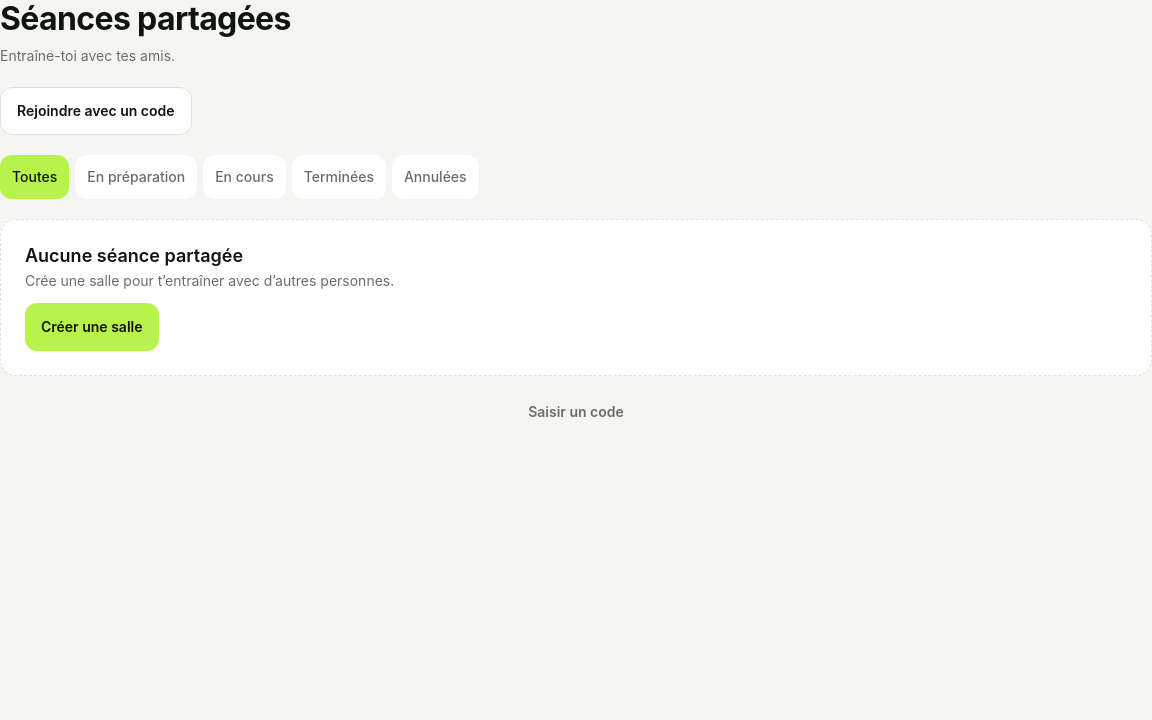
Test: SharedWorkoutsPage › affiche une erreur pour un code invalide
The image size is (1152, 720).
Click the button "Rejoindre avec un code" at (96, 111), box [0,87,192,135]
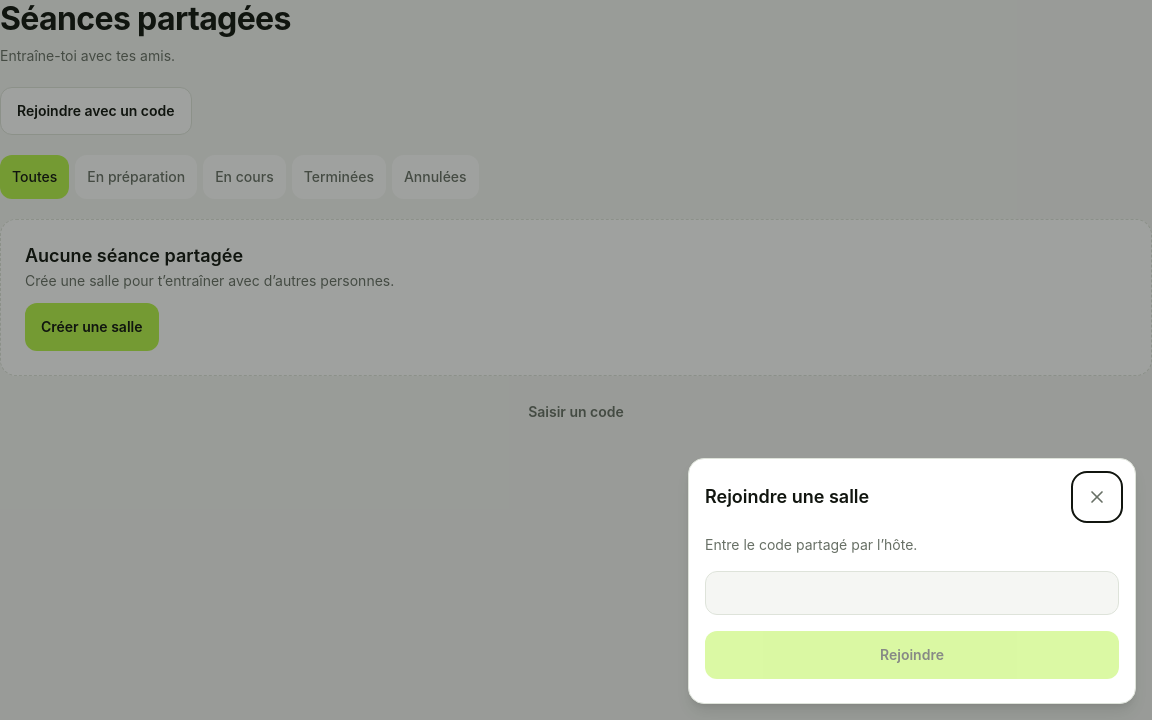
Type "AAAAAA" into the field named "code d’accès" at (912, 593), box [705,571,1119,615]
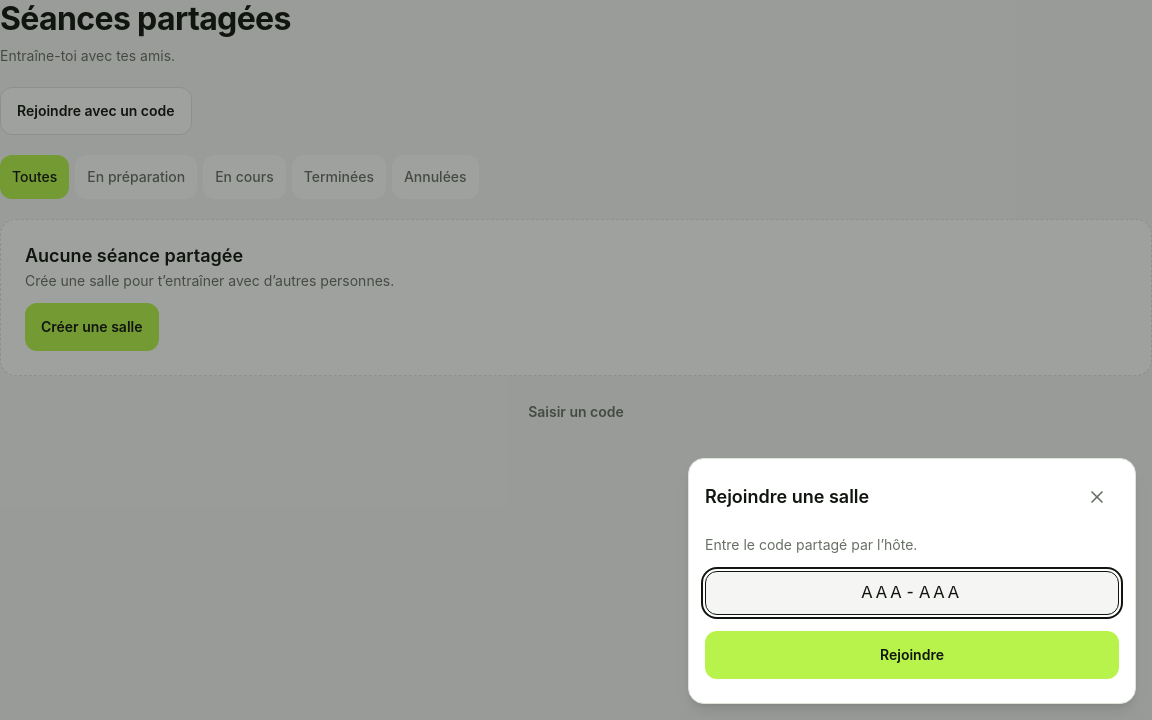
Click the button "Rejoindre" at (912, 655), box [705,631,1119,679]
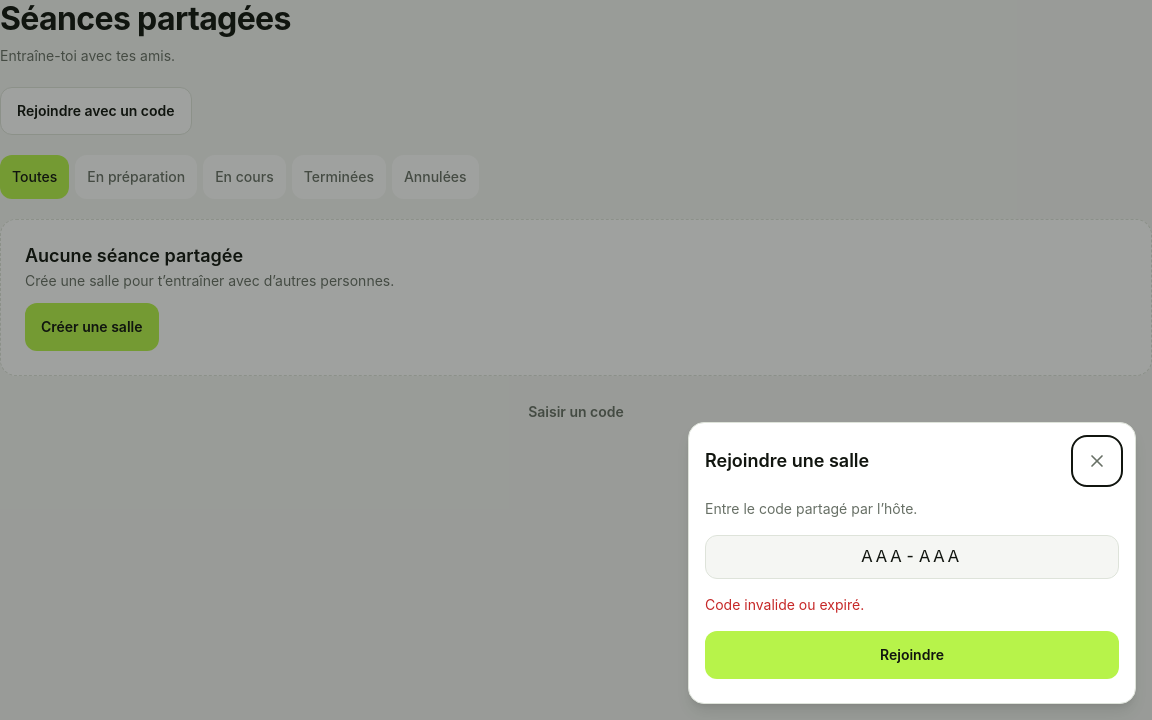
Expected: the text "Code invalide ou expiré." is shown, [705,596,864,613]
